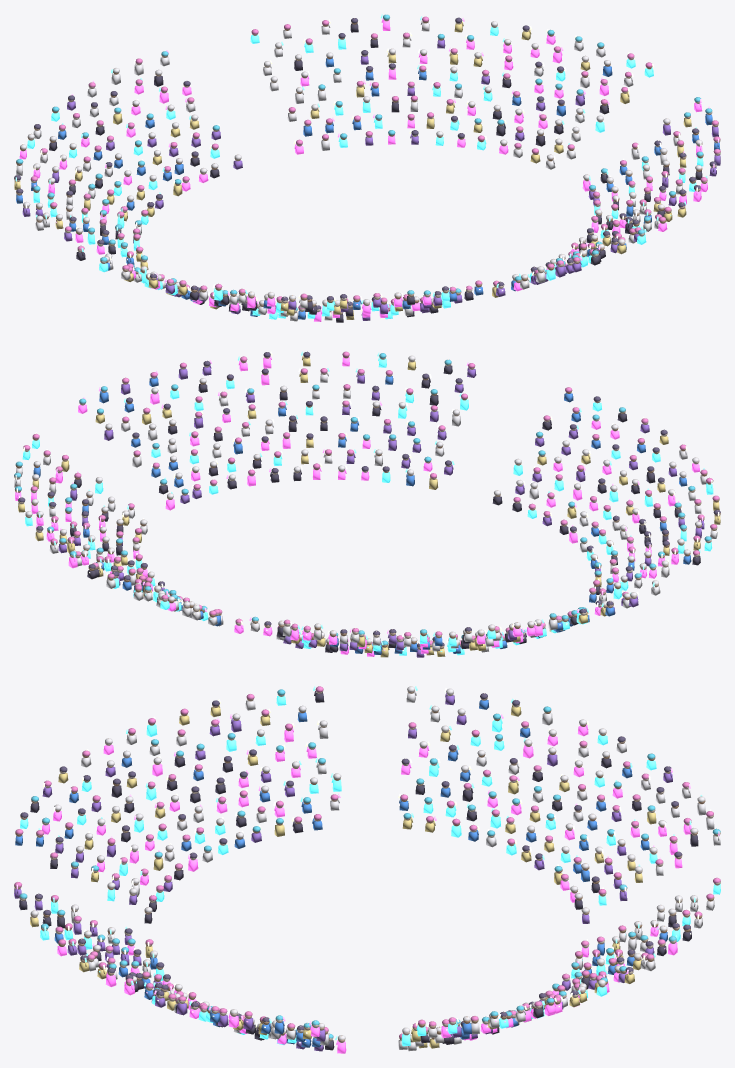
Rendered from neon_crowd.glb.
The picture shows the model from 3 angles, top to bottom: view 1: azimuth 30°, elevation 25°; view 2: azimuth 150°, elevation 25°; view 3: azimuth 270°, elevation 25°; orthographic projection. The views are drawn at different scales.
Visible parts, largest first — view 1: SuitWhite, SuitPink, HairPink, SuitCyan, HairWhite, SuitYellow, SuitPurple, SuitDark, SuitBlue, HairBlue, SkinDark, HairDark (+4 smaller); view 2: SuitPink, SuitWhite, HairPink, SuitCyan, SuitPurple, HairWhite, SuitDark, SuitYellow, SuitBlue, HairDark, HairBlue, SkinLight (+3 smaller); view 3: HairPink, SuitWhite, SuitPink, SuitCyan, SuitPurple, SuitBlue, SuitYellow, HairWhite, SuitDark, HairBlue, SkinLight, HairDark (+4 smaller).
Part boxes in pixels (x1,y1,x2,y2): SuitWhite: (16, 20, 682, 321); SuitPink: (19, 18, 707, 321); HairPink: (31, 16, 720, 311); SuitCyan: (27, 27, 703, 319); HairWhite: (20, 21, 702, 304); SuitYellow: (14, 21, 691, 319); SuitPurple: (22, 39, 720, 320); SuitDark: (49, 23, 702, 322); SuitBlue: (16, 58, 720, 319); HairBlue: (16, 14, 712, 310); SkinDark: (16, 18, 703, 307); HairDark: (14, 17, 716, 309); SuitPink: (15, 355, 699, 656); SuitWhite: (14, 372, 717, 652); HairPink: (23, 351, 719, 645); SuitCyan: (22, 356, 713, 655); SuitPurple: (58, 365, 704, 657); HairWhite: (25, 355, 701, 645); SuitDark: (70, 365, 700, 652); SuitYellow: (18, 355, 720, 657); SuitBlue: (33, 375, 691, 654); HairDark: (18, 351, 720, 646); HairBlue: (14, 353, 711, 645); SkinLight: (14, 357, 711, 648); HairPink: (14, 686, 720, 1038); SuitWhite: (71, 690, 720, 1051); SuitPink: (42, 724, 691, 1053); SuitCyan: (20, 696, 720, 1046); SuitPurple: (14, 693, 672, 1051); SuitBlue: (15, 699, 667, 1047); SuitYellow: (30, 704, 656, 1048); HairWhite: (30, 686, 705, 1039); SuitDark: (19, 690, 698, 1050); HairBlue: (19, 689, 720, 1038); SkinLight: (19, 691, 720, 1041); HairDark: (20, 693, 690, 1030).
Size of the model in its own units: 44.36 by 5.36 by 39.26.
